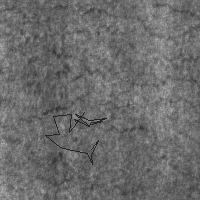crazing: (39, 38, 198, 87), (77, 1, 199, 42), (32, 88, 145, 131), (45, 112, 106, 164)
